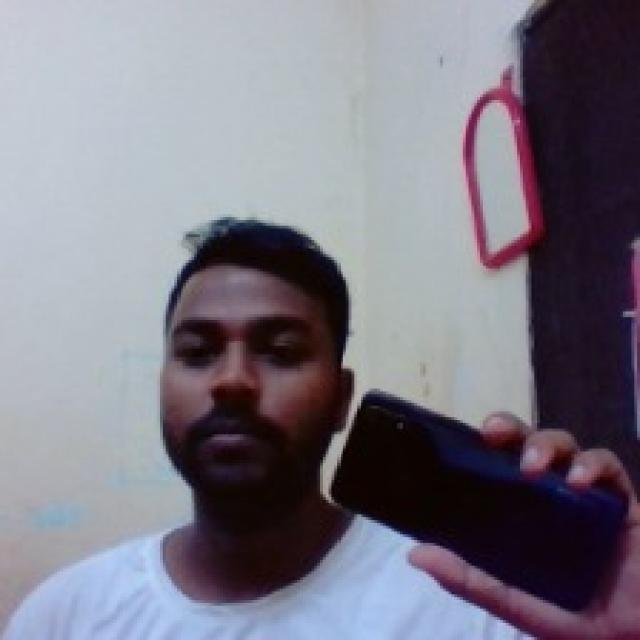Phone: (327, 386, 631, 620)
